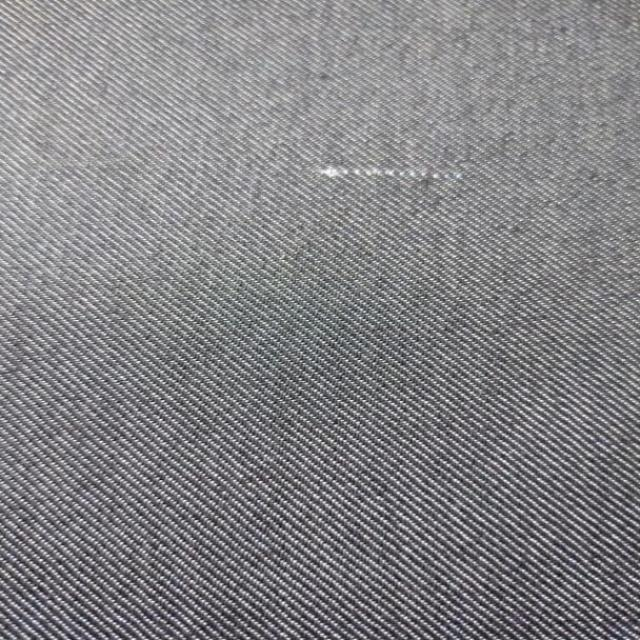Knot: (318, 166, 466, 181)
